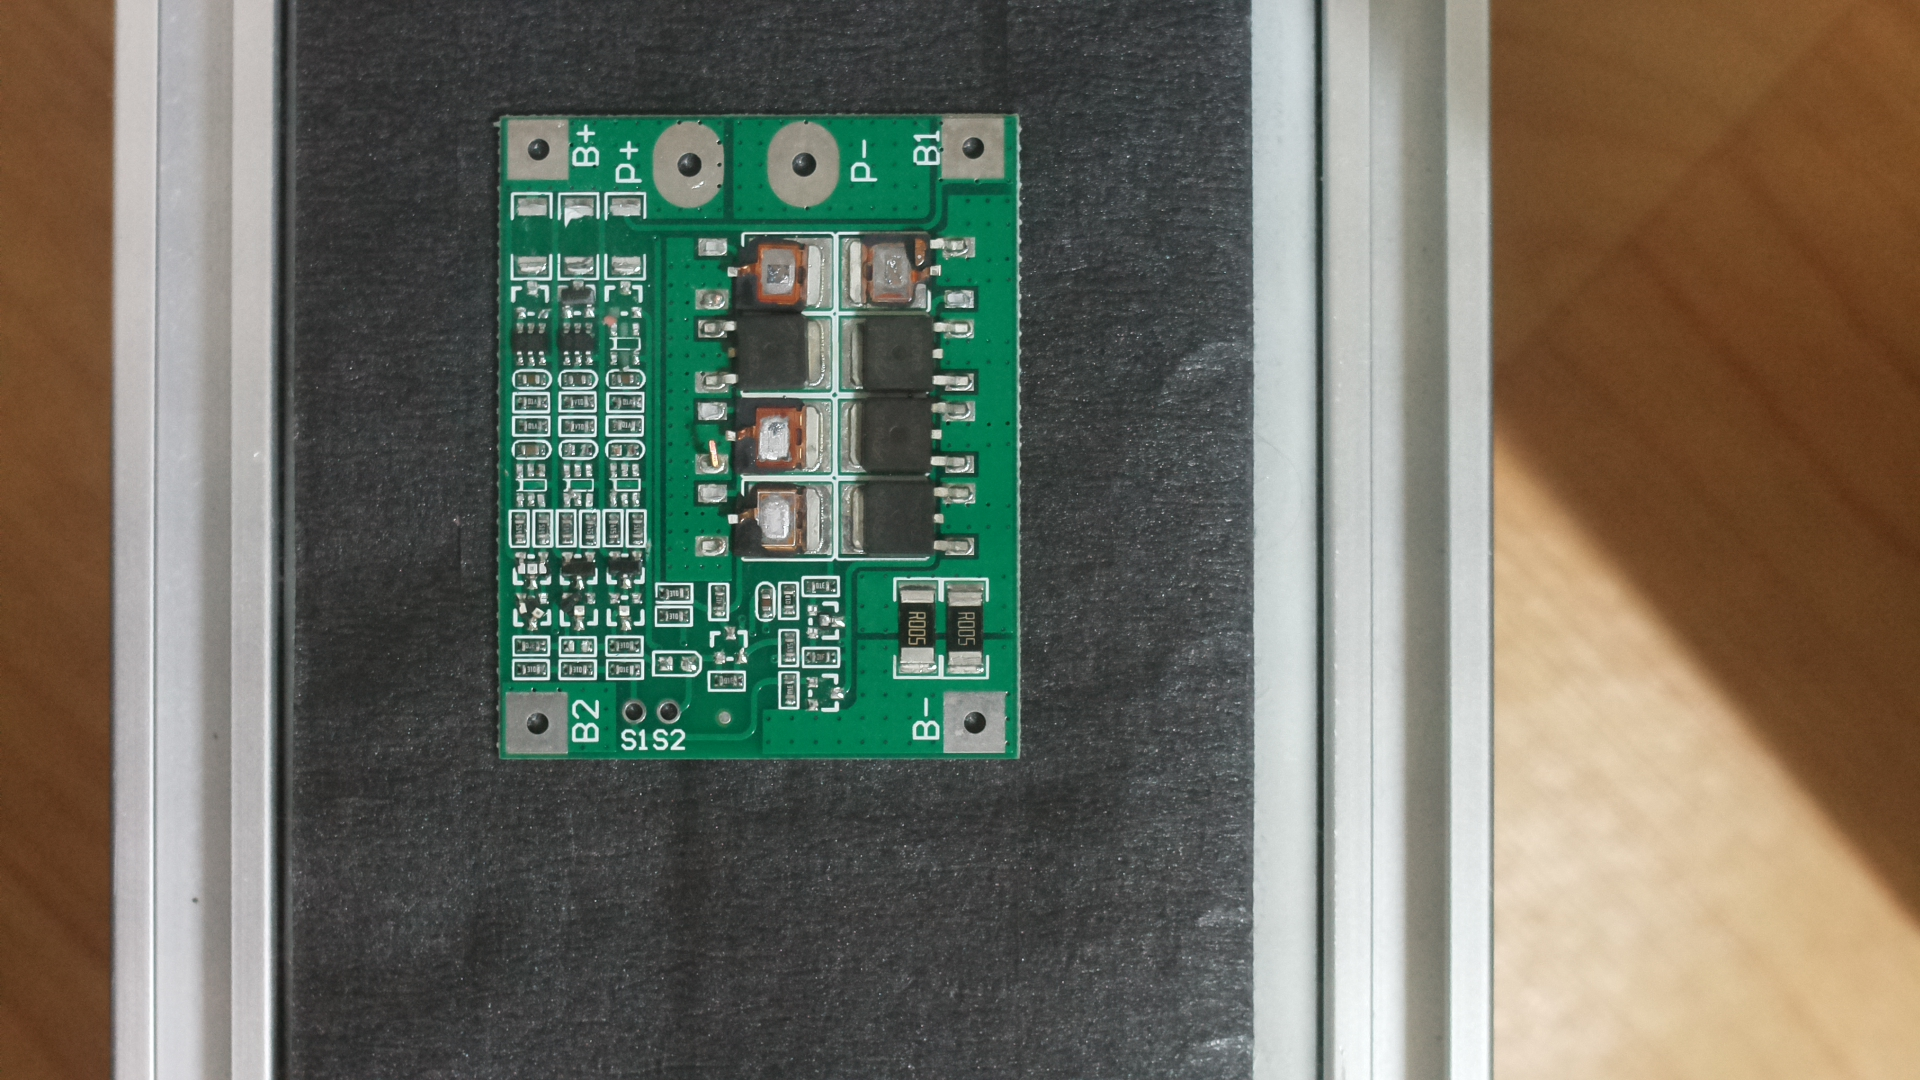C_Missing_part: (473, 83, 1050, 790)
